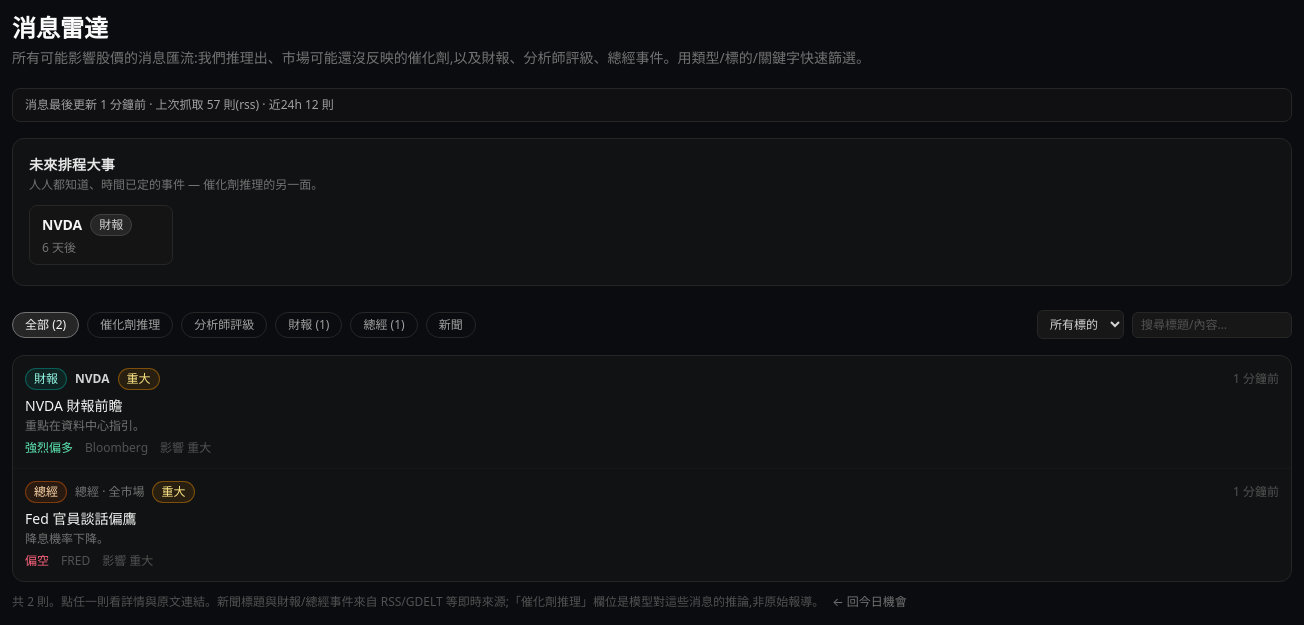
Test: NewsRadar › renders the feed and filters by type
Expected: the text "NVDA 財報前瞻" is shown, [25,396,123,415]
Expected: the text "Fed 官員談話偏鷹" is shown, [25,509,136,528]
// filtering to 財報 hides the macro item
Click the button "財報 (1)" at (309,324), box [275,312,342,338]
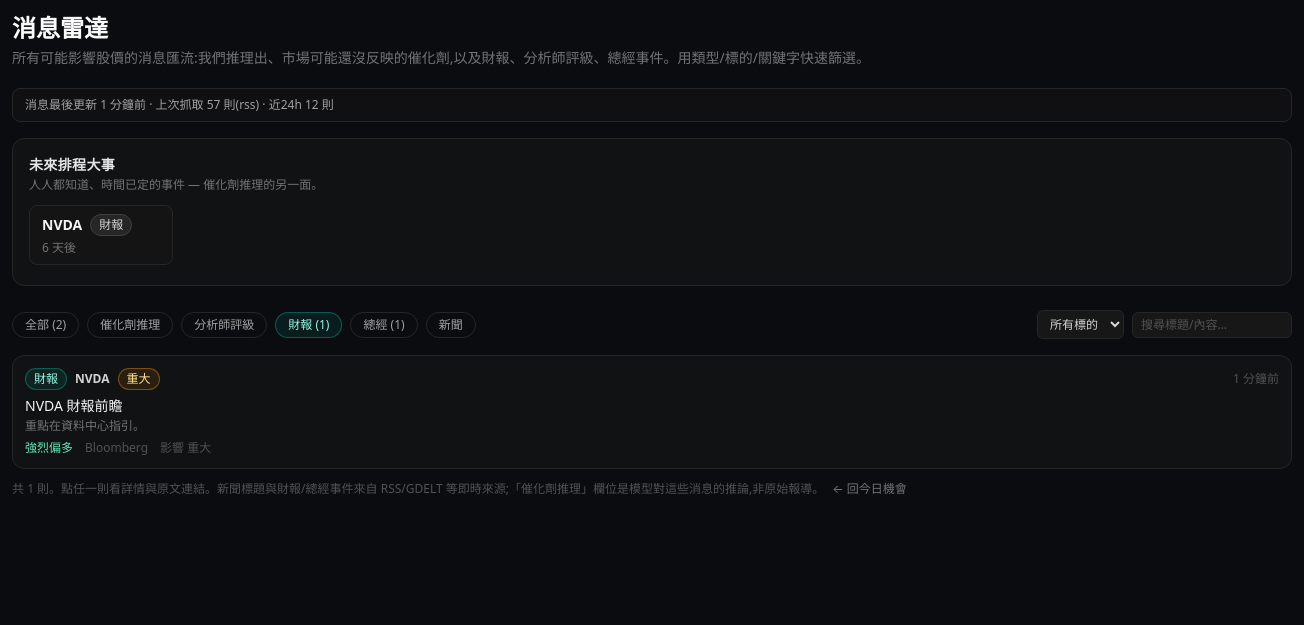
Expected: the text "NVDA 財報前瞻" is shown, [25,396,123,415]
Expected: the link "Fed 官員談話偏鷹" is gone
